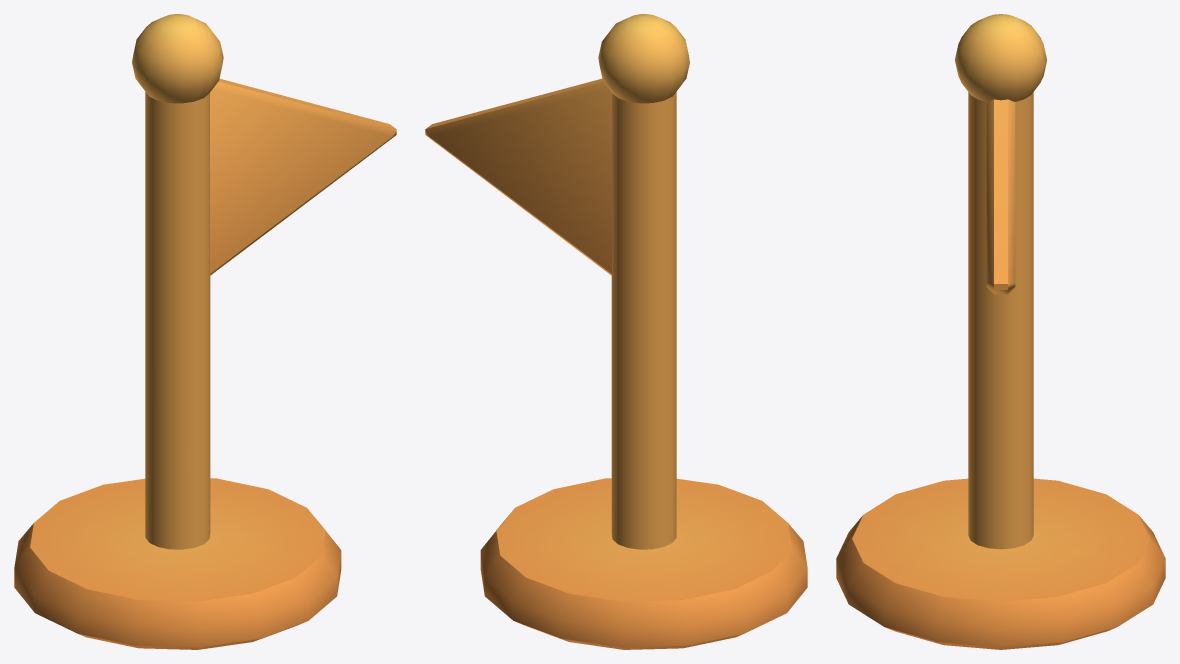
Rendered from flag-a-yellow.glb.
3 views of the same model, side by side, from view 1: azimuth 30°, elevation 25°; view 2: azimuth 150°, elevation 25°; view 3: azimuth 270°, elevation 25° (orthographic).
Parts seen in each view (by area): view 1: flag_A_yellow; view 2: flag_A_yellow; view 3: flag_A_yellow.
Boxes of the visible parts, bbox=[...] form: flag_A_yellow: bbox=[14, 14, 396, 649]; flag_A_yellow: bbox=[425, 14, 807, 649]; flag_A_yellow: bbox=[836, 14, 1165, 649].
Size of the model in its own units: 0.9404 by 1.43 by 0.75.
Materials: 1 (1 with a texture image).
